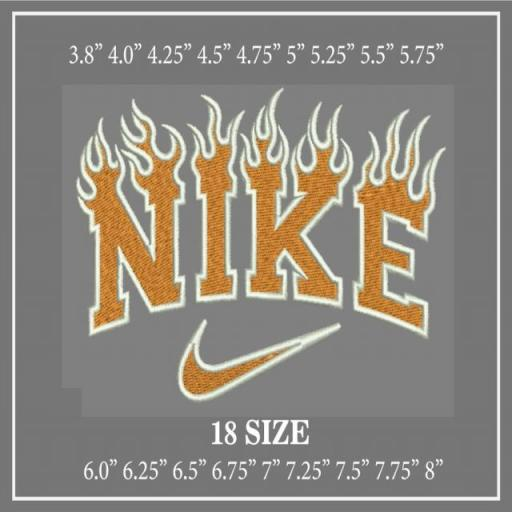Nike: (86, 160, 429, 336), (180, 345, 301, 397)
